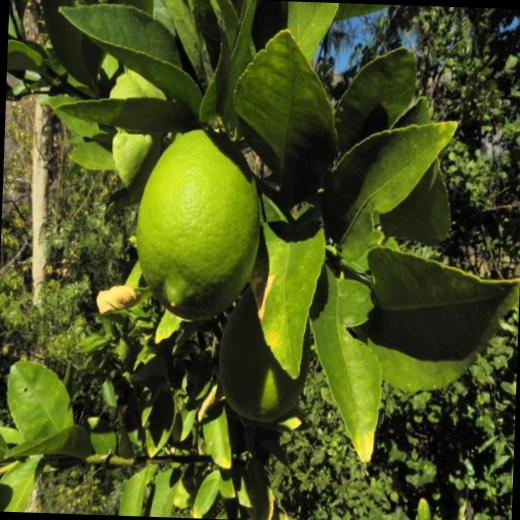Grape: (132, 126, 266, 324)
